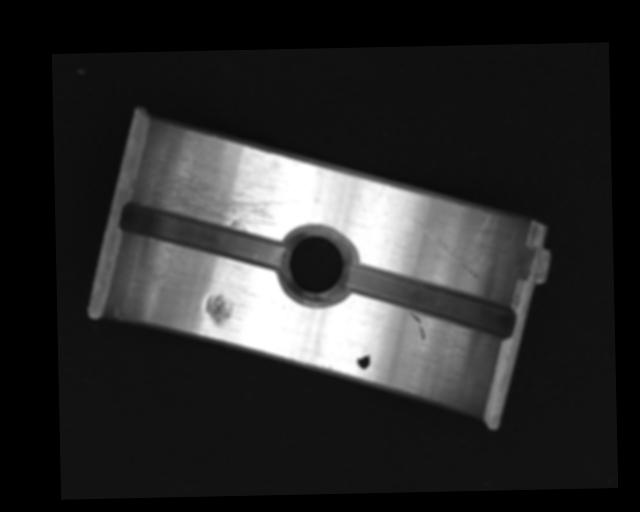blot: (355, 348, 371, 370)
bruise: (204, 292, 235, 326)
gap: (347, 262, 514, 342), (119, 200, 288, 272)
hole: (279, 225, 353, 304)
nick: (413, 213, 485, 285), (409, 310, 426, 342)
scratch: (129, 149, 305, 235)
